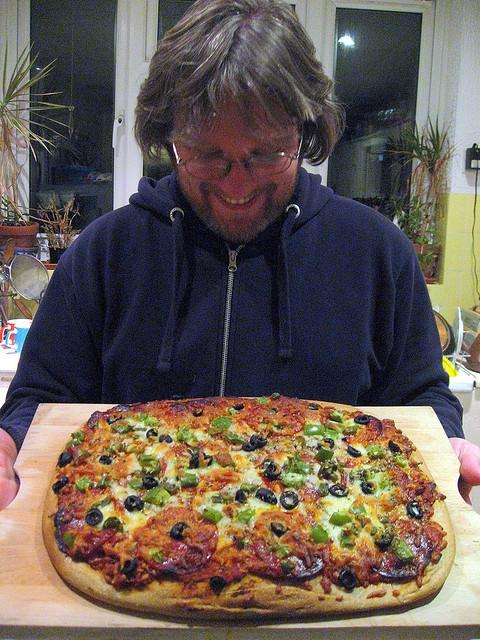bell pepper: (142, 487, 172, 507), (286, 456, 312, 475), (140, 454, 160, 476), (177, 425, 199, 444), (318, 460, 338, 480), (394, 540, 414, 560), (66, 430, 86, 450), (281, 472, 303, 489), (202, 506, 222, 524), (74, 475, 93, 493), (348, 504, 367, 522), (159, 477, 179, 494), (102, 516, 123, 532), (328, 512, 352, 526), (311, 525, 328, 544), (72, 450, 92, 466), (314, 447, 334, 462), (91, 494, 111, 509), (210, 416, 231, 430), (302, 424, 326, 436), (181, 472, 198, 488), (275, 545, 294, 559), (325, 421, 345, 434), (236, 510, 254, 524), (105, 442, 126, 454), (222, 434, 246, 444), (63, 530, 75, 550), (378, 473, 391, 490), (328, 411, 344, 424), (340, 535, 356, 547), (129, 478, 143, 491), (368, 450, 386, 460), (96, 476, 110, 488), (206, 426, 224, 435), (240, 484, 258, 493), (318, 483, 330, 496), (144, 417, 158, 428), (253, 396, 270, 405), (342, 426, 357, 436), (325, 429, 337, 441), (150, 550, 162, 562), (395, 457, 408, 468), (112, 426, 129, 434), (272, 422, 286, 430), (226, 408, 239, 416), (138, 412, 148, 422), (350, 524, 358, 536), (89, 421, 99, 430), (69, 529, 79, 538), (212, 496, 223, 504), (138, 461, 152, 467)
